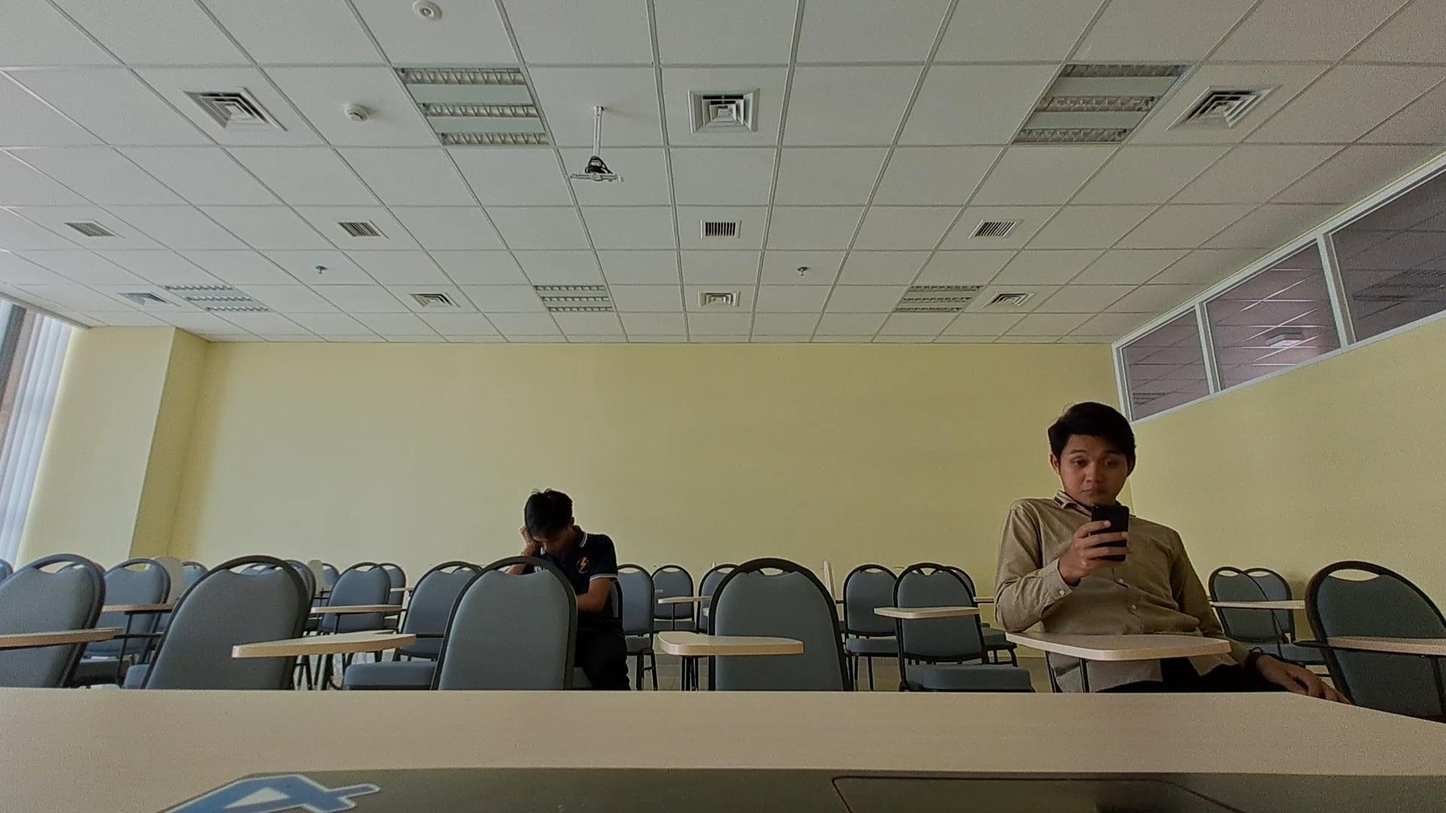phone: (990, 401, 1213, 630)
study: (499, 472, 614, 608)
